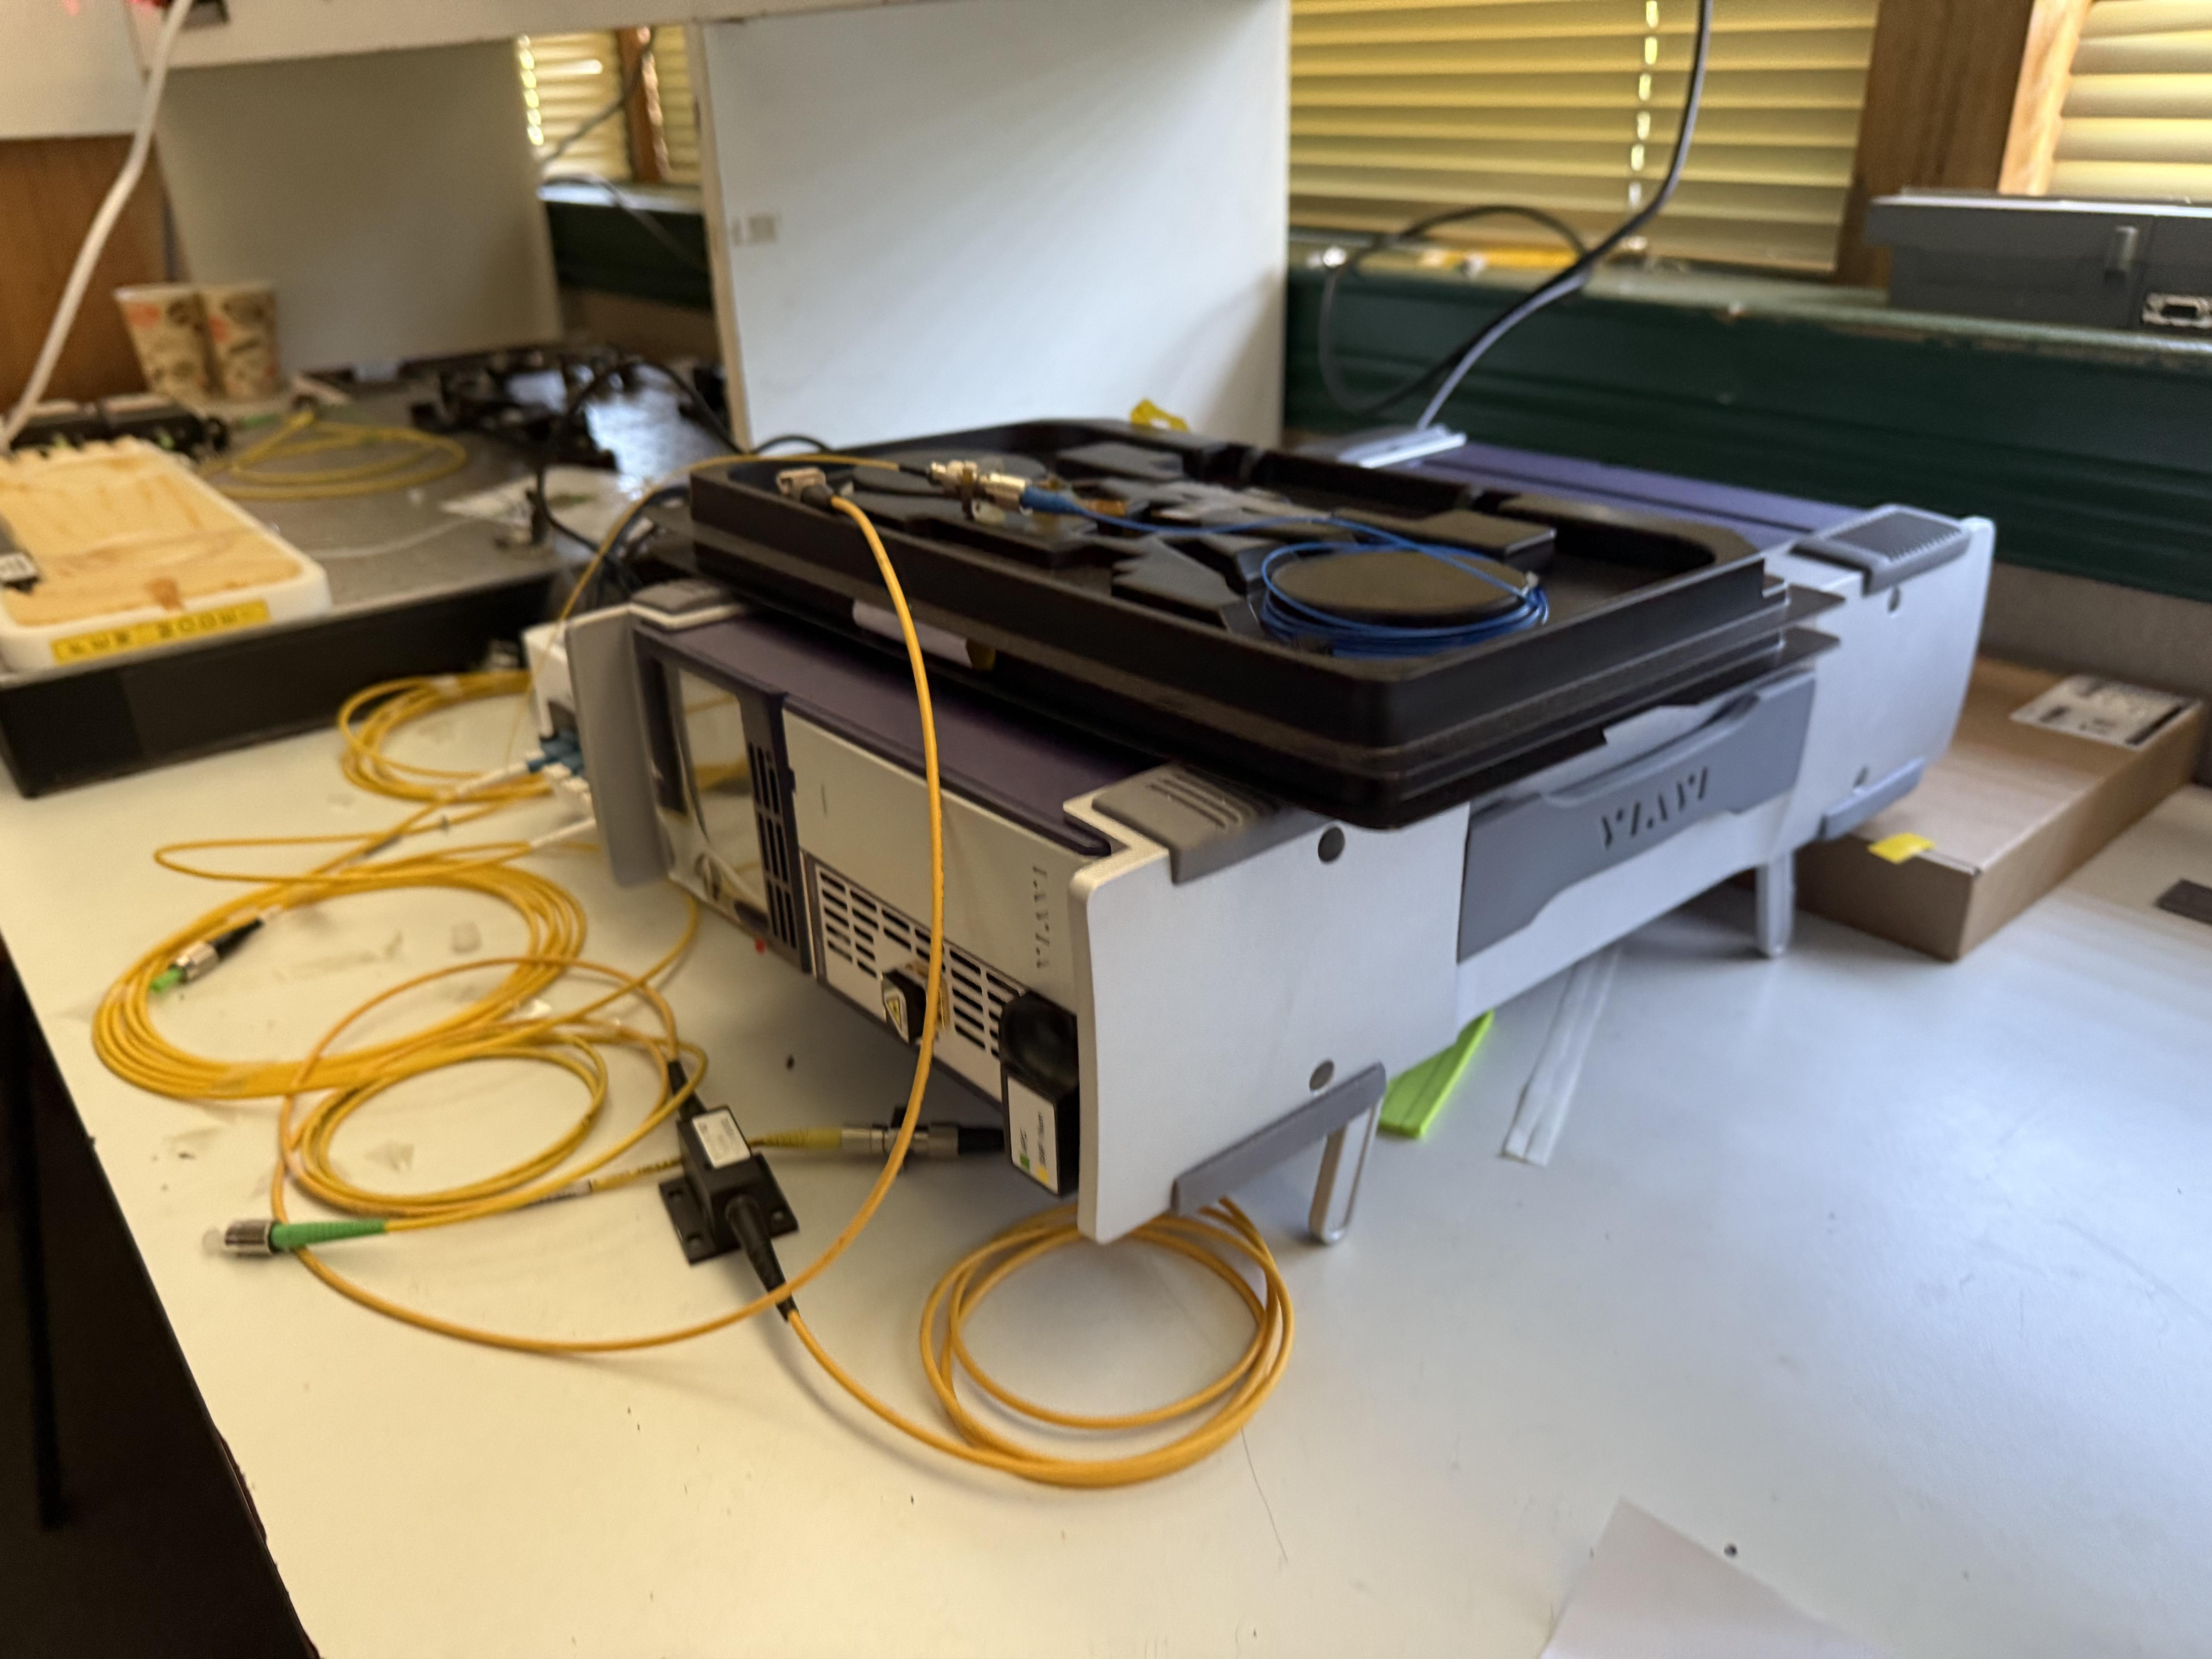fiber_cable: (44, 732, 752, 1375), (900, 1098, 1292, 1588)
laser: (500, 403, 1987, 1251)
